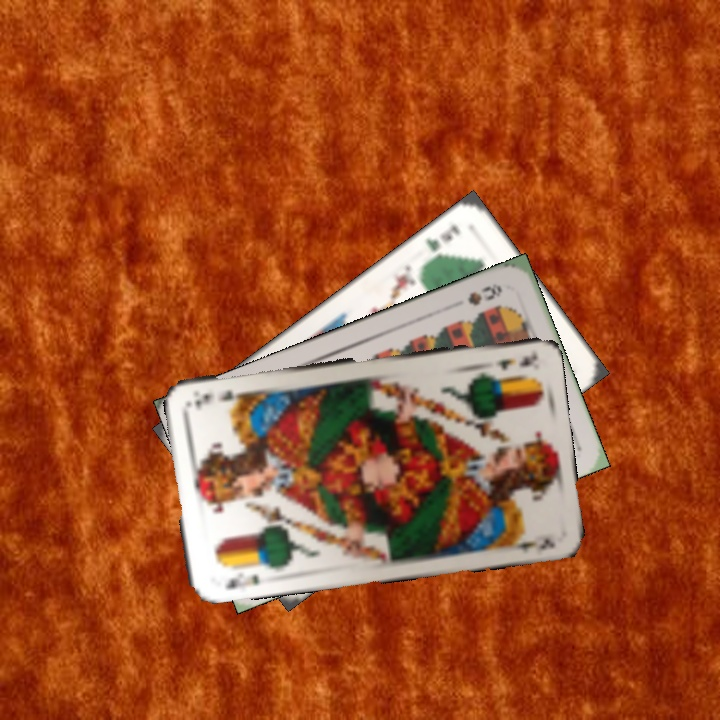EK: (492, 349, 536, 372), (222, 570, 263, 592)
GK: (421, 220, 463, 255)
S8: (463, 279, 505, 308)
